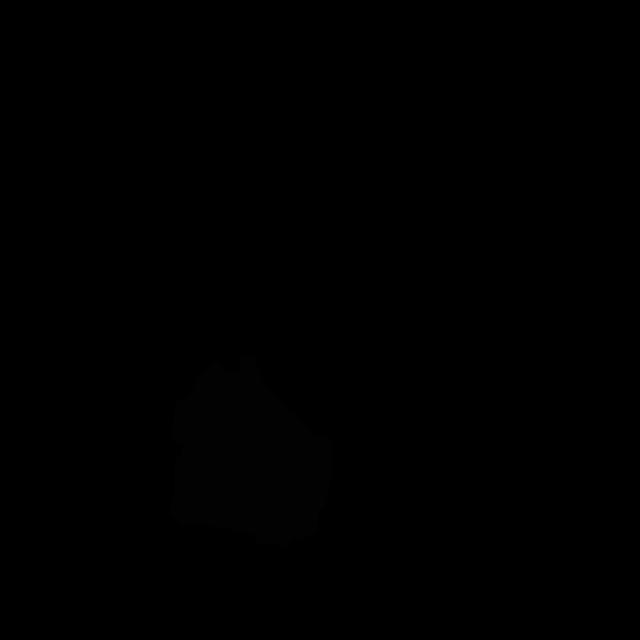cardboard: (170, 354, 332, 550)
